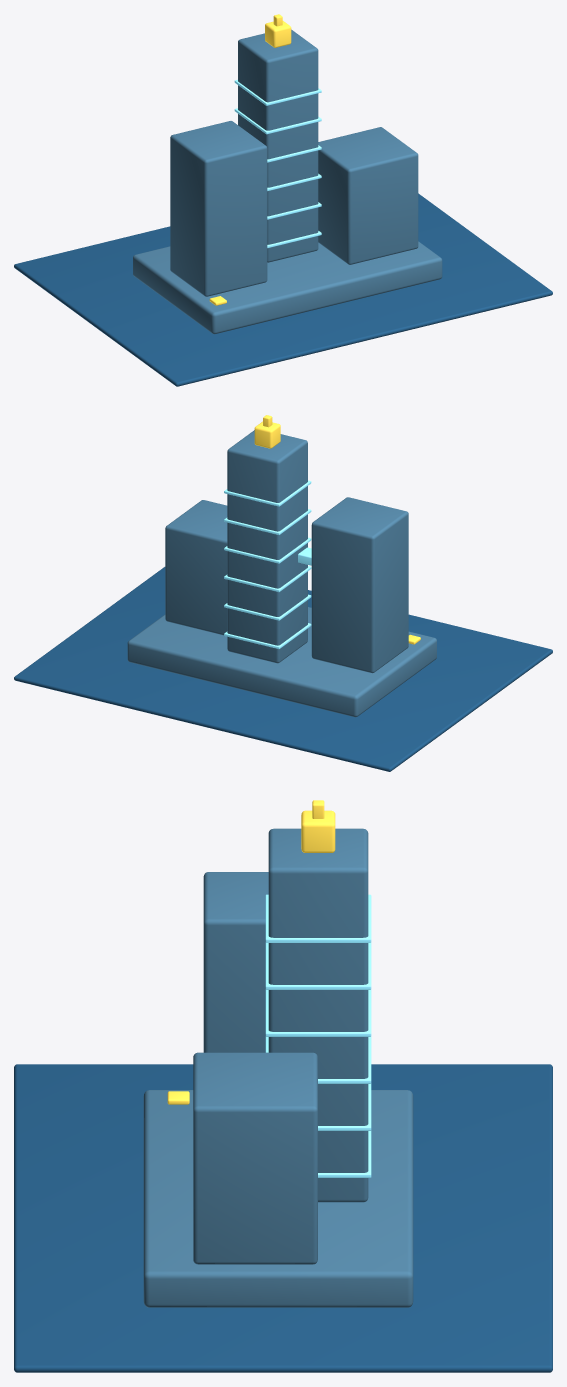
Rendered from digital-massing.glb.
3 renders of one model, top to bottom at view 1: azimuth 30°, elevation 25°; view 2: azimuth 150°, elevation 25°; view 3: azimuth 270°, elevation 25°, orthographic. The views are drawn at different scales.
Parts seen in each view (by area): view 1: mass, navy, cyan, gold; view 2: mass, navy, cyan, gold; view 3: navy, mass, cyan, gold.
Part boxes in pixels (left/top/right/bottom): mass: left=133, top=29, right=442, bottom=334; navy: left=14, top=193, right=552, bottom=386; cyan: left=234, top=79, right=321, bottom=248; gold: left=209, top=14, right=291, bottom=305; mass: left=127, top=430, right=436, bottom=717; navy: left=14, top=567, right=552, bottom=771; cyan: left=224, top=480, right=311, bottom=649; gold: left=254, top=415, right=420, bottom=644; navy: left=14, top=1064, right=552, bottom=1372; mass: left=143, top=828, right=413, bottom=1307; cyan: left=265, top=894, right=371, bottom=1177; gold: left=167, top=800, right=335, bottom=1104.
Size of the model in its own units: 7.2 by 4.69 by 5.4.
